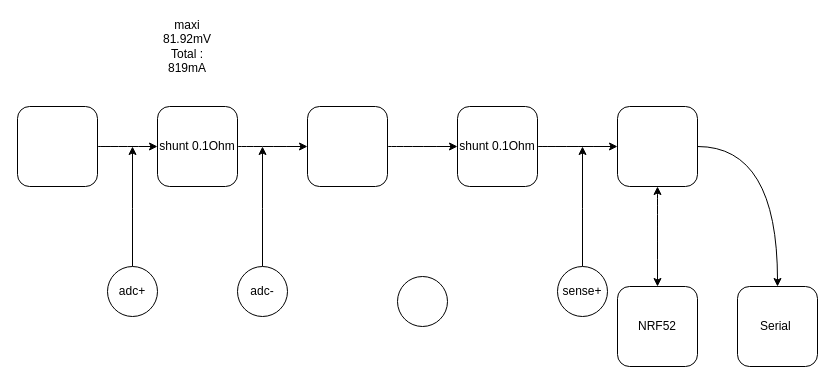
This 835x384 diagram has some shape labels left out. The centre of each missing label's shape, as x and y in pixels:
"AGND" goes at [422,301].
"Alim 3V8" goes at [347,146].
"alimentation" goes at [57,146].
"SIMCOM" goes at [657,146].
